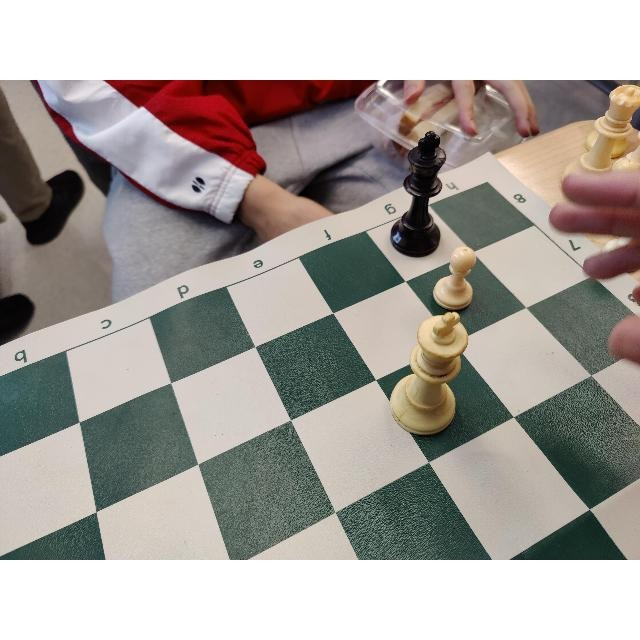black-king: (390, 131, 446, 257)
white-king: (388, 311, 468, 437)
white-pawn: (433, 246, 477, 310)
